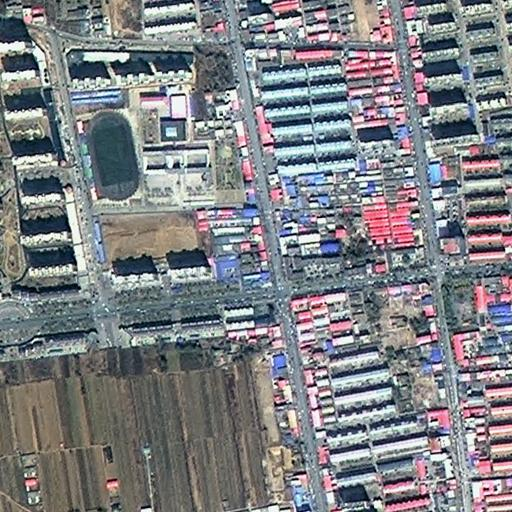school: (68, 81, 216, 207)
